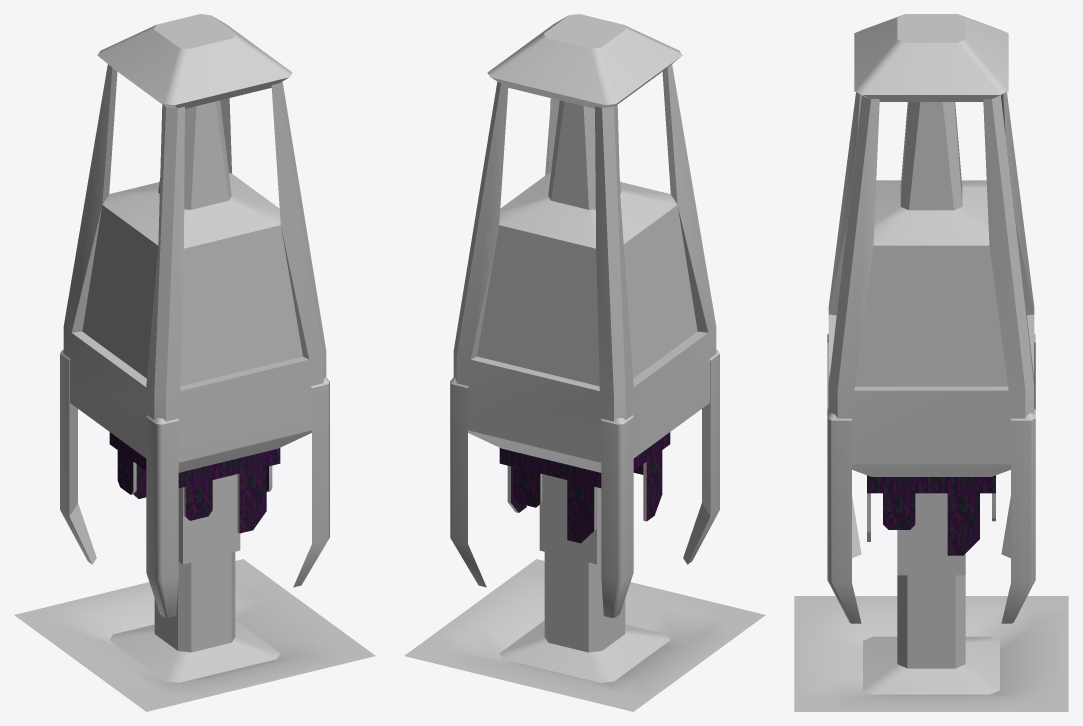
The model's file is cbtowe06.FBX.
The picture shows the model from 3 angles, left to right: view 1: azimuth 30°, elevation 25°; view 2: azimuth 150°, elevation 25°; view 3: azimuth 270°, elevation 25°; orthographic projection. The views are drawn at different scales.
Visible parts, largest first — view 1: tower2, terrain, hangfin4, cbtowe06, glassa3, glassa; view 2: tower2, terrain, hangfin4, cbtowe06, glassa1, glassa; view 3: tower2, terrain, cbtowe06, hangfin4, glassa2.
Boxes of the visible parts, x1,y1,x2,y2 form: tower2: [63, 14, 326, 564]; terrain: [14, 559, 375, 711]; hangfin4: [60, 350, 329, 617]; cbtowe06: [109, 552, 280, 682]; glassa3: [178, 448, 280, 533]; glassa: [109, 432, 146, 494]; tower2: [453, 14, 716, 564]; terrain: [404, 559, 765, 711]; hangfin4: [450, 350, 719, 617]; cbtowe06: [499, 552, 670, 682]; glassa1: [499, 448, 601, 543]; glassa: [633, 432, 670, 521]; tower2: [828, 14, 1034, 575]; terrain: [794, 596, 1068, 711]; cbtowe06: [863, 575, 999, 694]; hangfin4: [827, 334, 1035, 623]; glassa2: [867, 475, 995, 555].
Bounding box in the file's own units: 64 × 167 × 64.
